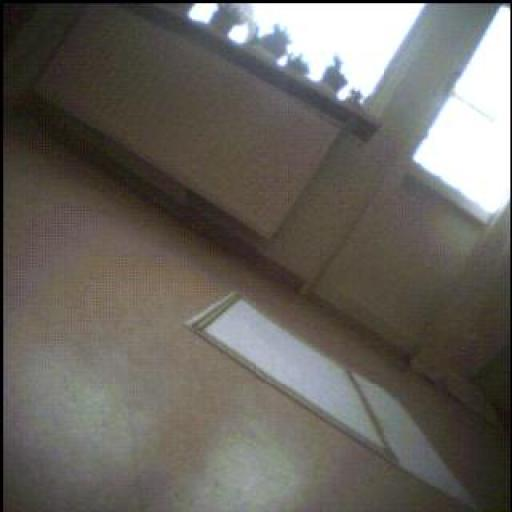Pad: (189, 291, 476, 512)
